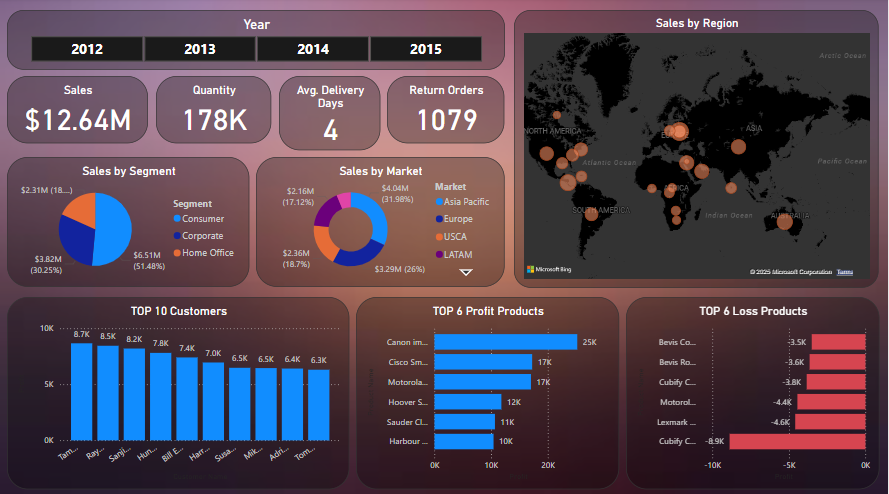

This screenshot's page, from the dashboard's own definition file:
{"tool":"powerbi","page":{"name":"Sales Report","canvas":[1280,720],"ordinal":0},"visuals":[{"type":"card","title":"Sales","fields":{"Values":["Sum(Orders.Sales)"]},"box":[9.9,112.7,202.8,97.2],"z":0},{"type":"card","title":"Quantity","fields":{"Values":["Sum(Orders.Quantity)"]},"box":[225.4,112.7,166.2,97.2],"z":1000},{"type":"card","title":"Avg. Delivery Days","fields":{"Values":["Sum(Orders.Delivery Days)"]},"box":[401.4,112.7,146.5,107],"z":2000},{"type":"slicer","title":"Year","fields":{"Values":["Orders.Year"]},"box":[9.9,16.9,716.9,85.9],"z":3000},{"type":"card","title":"Return Orders","fields":{"Values":["Min(Returns.Return Orders)"]},"box":[557.7,112.7,169,97.2],"z":4000},{"type":"map","fields":{"Category":["Orders.Region"],"Size":["Sum(Orders.Sales)"]},"box":[740.8,16.9,525.4,400],"z":5000},{"type":"barChart","title":"TOP 6 Profit  Products","fields":{"Category":["Orders.Product Name"],"Y":["Sum(Orders.Profit)"]},"box":[512.7,431,378.9,277.5],"z":6000},{"type":"barChart","title":"TOP 6 Loss  Products","fields":{"Category":["Orders.Product Name"],"Y":["Sum(Orders.Profit)"]},"box":[901.4,431,364.8,277.5],"z":7000},{"type":"pieChart","fields":{"Category":["Orders.Segment"],"Y":["Sum(Orders.Sales)"]},"box":[9.9,229.6,349.3,187.3],"z":8000},{"type":"donutChart","fields":{"Y":["Sum(Orders.Sales)"],"Category":["Orders.Market"]},"box":[369,229.6,357.7,187.3],"z":9000},{"type":"columnChart","title":"TOP 10 Customers","fields":{"Y":["Sum(Orders.Profit)"],"Category":["Orders.Customer Name"]},"box":[9.9,431,493,277.5],"z":10000}]}

Visuals, with their boxes in screenshot pixels (x1, y1, x2, y2), scaled from the page's 1280x720 canvas onto the 889x494 screenshot:
"Sales" card: 7/77/148/144
"Quantity" card: 157/77/272/144
"Avg. Delivery Days" card: 279/77/381/151
"Year" slicer: 7/12/505/71
"Return Orders" card: 387/77/505/144
map - Orders.Region x Sum(Orders.Sales): 515/12/879/286
"TOP 6 Profit  Products" barChart: 356/296/619/486
"TOP 6 Loss  Products" barChart: 626/296/879/486
pieChart - Orders.Segment x Sum(Orders.Sales): 7/158/249/286
donutChart - Sum(Orders.Sales) x Orders.Market: 256/158/505/286
"TOP 10 Customers" columnChart: 7/296/349/486
